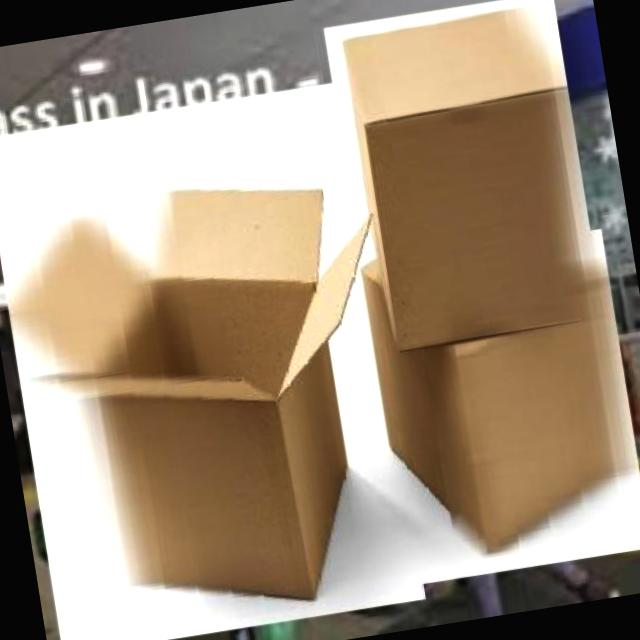box: (0, 73, 433, 640), (346, 223, 640, 593), (320, 0, 611, 373)
